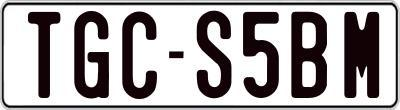5: (241, 11, 279, 103)
B: (288, 9, 324, 99)
C: (119, 9, 159, 99)
G: (71, 8, 108, 100)
M: (344, 9, 383, 97)
S: (195, 9, 229, 99)
T: (27, 11, 63, 99)
